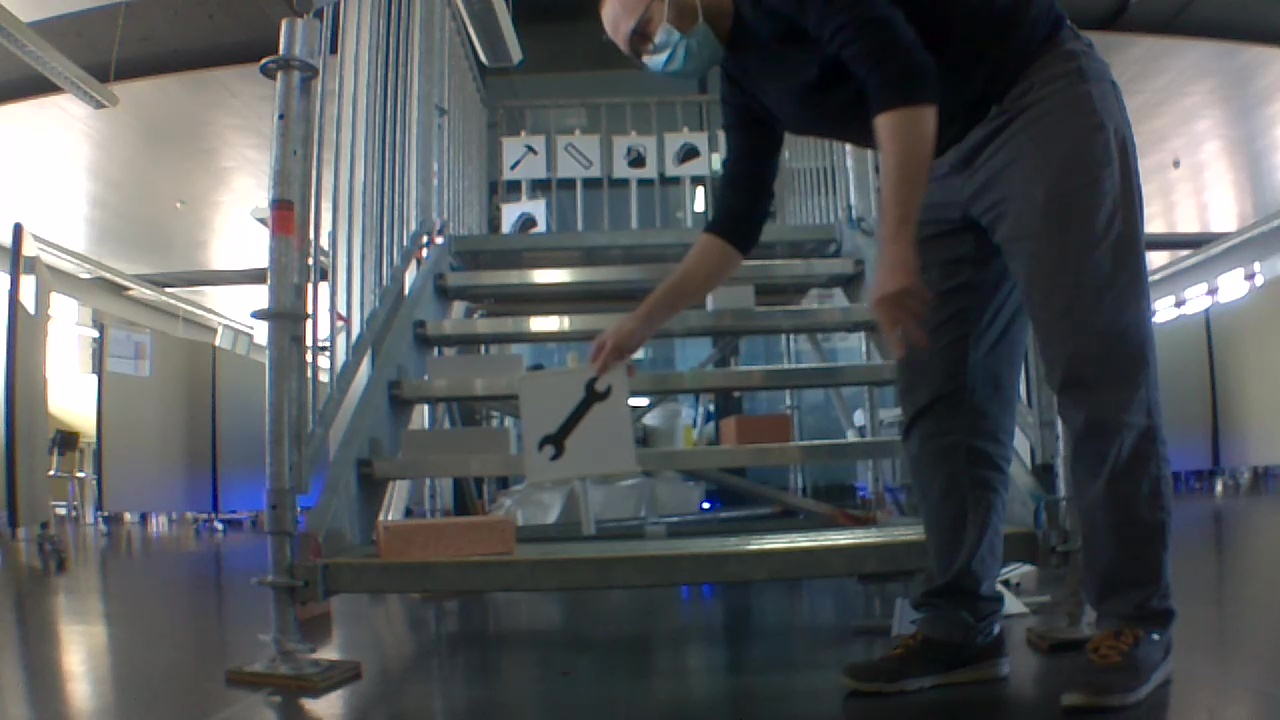brick: (379, 516, 513, 561), (403, 425, 514, 457), (425, 357, 525, 381), (721, 413, 791, 442), (708, 284, 755, 308)
bucket: (620, 141, 649, 174)
hammer: (504, 137, 541, 173)
ruler: (558, 137, 594, 175)
taco: (668, 135, 704, 171), (506, 205, 538, 233)
wrench: (533, 374, 618, 469)
